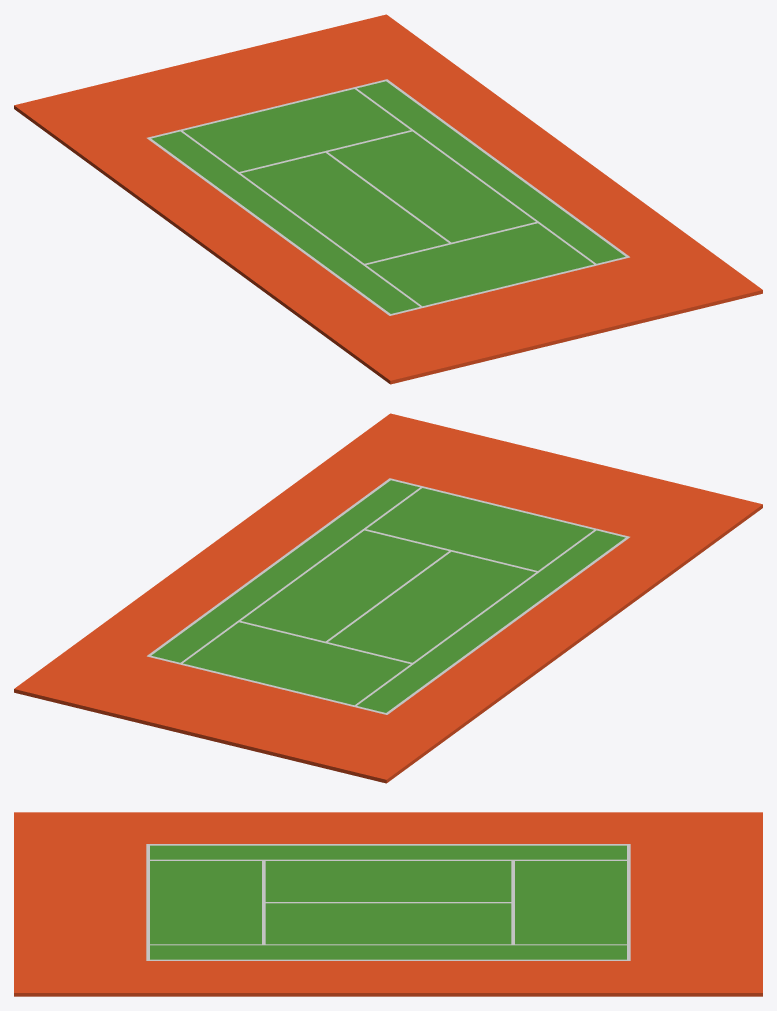
The model's file is Tenis_Cort.fbx.
3 renders of one model, top to bottom at view 1: azimuth 30°, elevation 25°; view 2: azimuth 150°, elevation 25°; view 3: azimuth 270°, elevation 25°, orthographic.
Visible parts, largest first — view 1: Cube; view 2: Cube; view 3: Cube.
Boxes of the visible parts, x1=… form: Cube: x1=14, y1=14, x2=762, y2=384; Cube: x1=14, y1=413, x2=762, y2=783; Cube: x1=14, y1=812, x2=762, y2=996.
Size of the model in its own units: 21011 by 200 by 36769.
